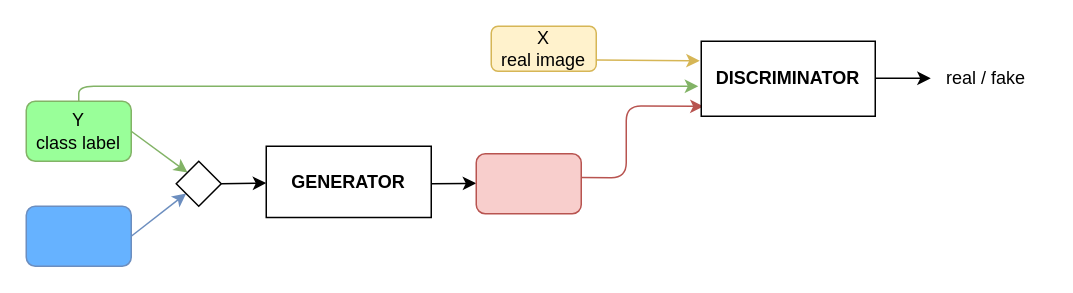
Some shapes in this 1073 by 293 pixel diagram are drawn without their labels. The centre of each missing label's shape, as x and y in pixels:
"generated image" goes at [528,183].
"Z latent point" goes at [78,235].
